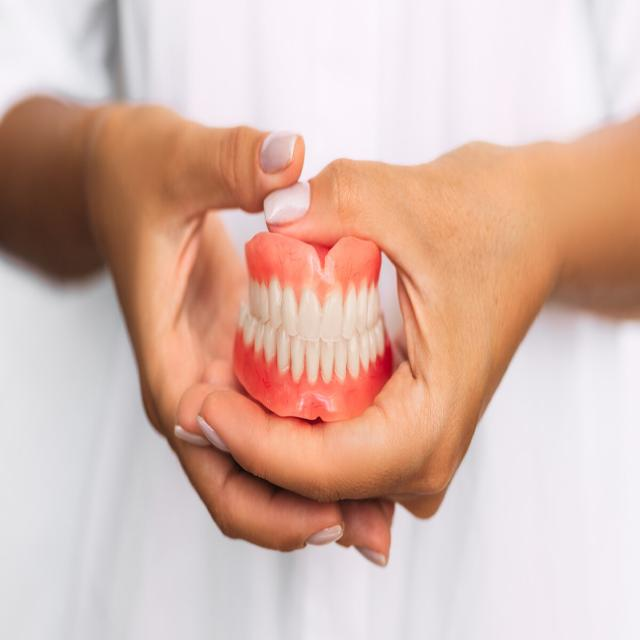tooth: (306, 338, 324, 386), (291, 328, 305, 387), (318, 333, 334, 384), (282, 284, 299, 330), (318, 298, 340, 333), (340, 290, 356, 338), (333, 333, 349, 381), (299, 298, 318, 330), (277, 337, 291, 379), (368, 282, 381, 325), (305, 344, 318, 386), (356, 290, 368, 334), (268, 284, 280, 321), (268, 331, 277, 379), (352, 343, 362, 382), (361, 328, 369, 375), (374, 320, 385, 351), (255, 324, 264, 359), (369, 333, 377, 365)
